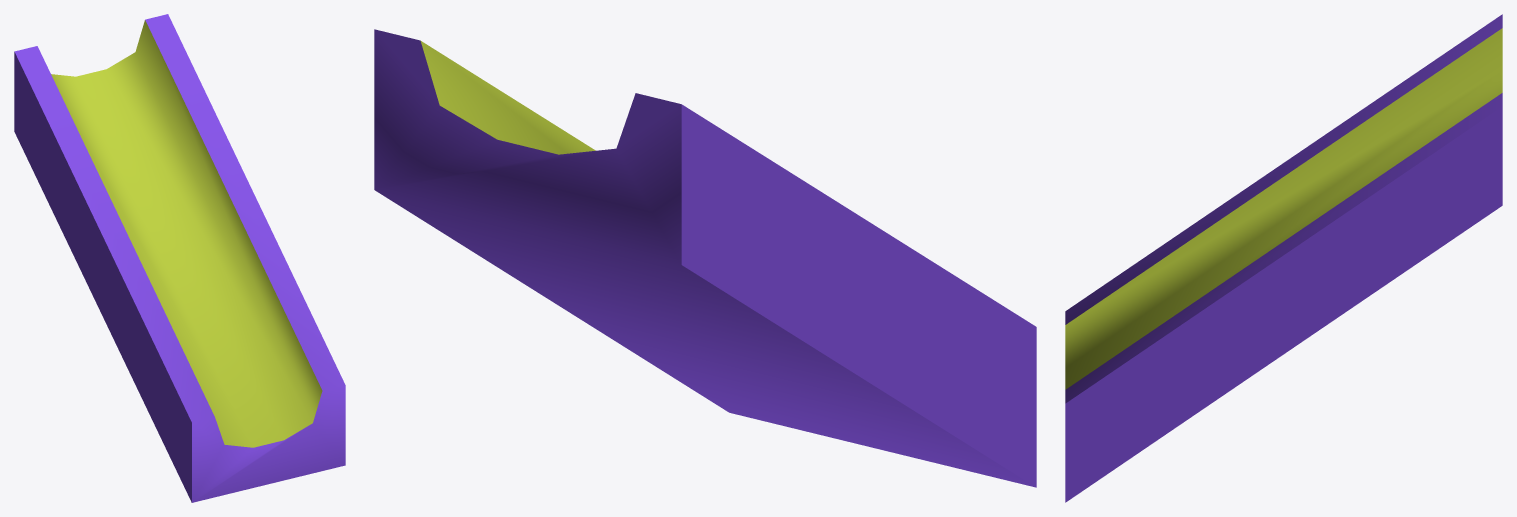
File: slant_long_D-col.dae
The picture shows the model from 3 angles, left to right: view 1: azimuth 30°, elevation 25°; view 2: azimuth 150°, elevation 25°; view 3: azimuth 270°, elevation 25°; orthographic projection. The views are drawn at different scales.
Visible parts, largest first — view 1: slant_long_D-col; view 2: slant_long_D-col; view 3: slant_long_D-col.
Part boxes in pixels (x1,y1,x2,y2): slant_long_D-col: (14, 14, 345, 502); slant_long_D-col: (374, 29, 1036, 487); slant_long_D-col: (1065, 14, 1502, 502).
Bounding box in the file's own units: 1 × 2 × 2.
